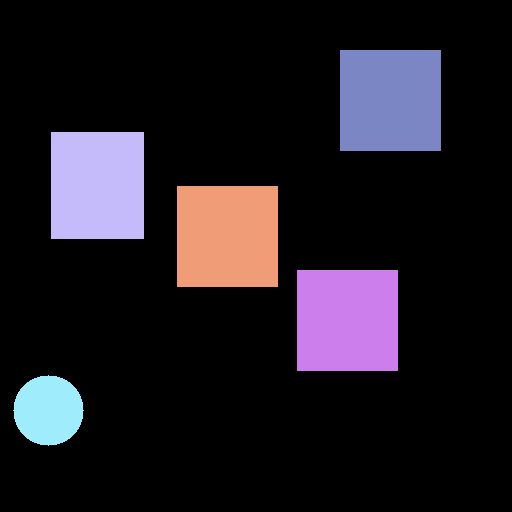circle: (13, 375, 83, 445)
rectangle: (51, 132, 143, 238)
square: (297, 270, 397, 370), (177, 186, 277, 286), (340, 50, 440, 150)
